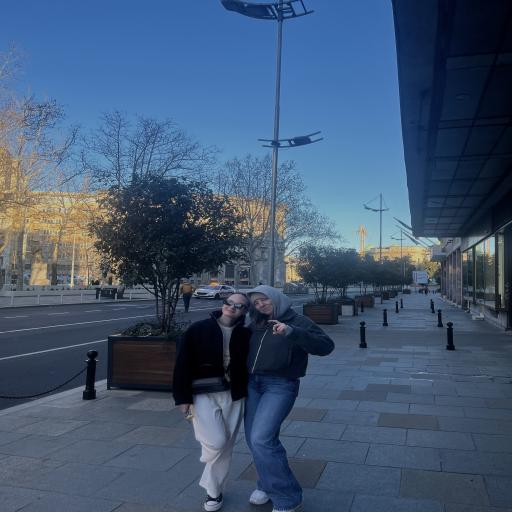marija: (223, 294, 248, 316)
